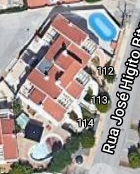pool: (87, 13, 118, 41), (31, 136, 62, 160)
